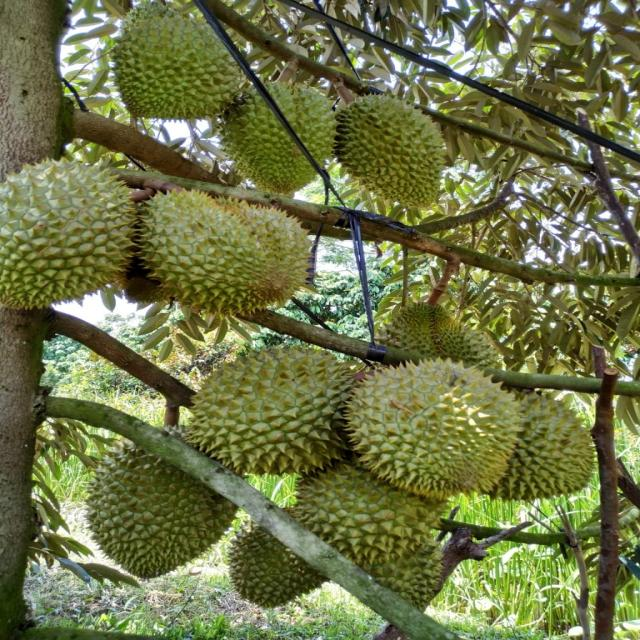Sau Rieng: (344, 364, 526, 504), (187, 344, 359, 478), (132, 186, 308, 314), (82, 432, 235, 574), (288, 460, 445, 585), (7, 158, 139, 304), (111, 2, 241, 120), (218, 80, 338, 192), (330, 91, 448, 203), (482, 390, 588, 499), (227, 522, 326, 605), (379, 296, 475, 356), (432, 320, 496, 365)
